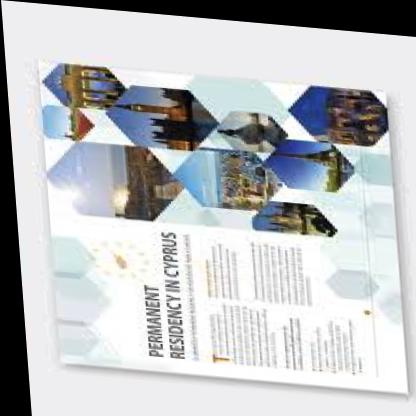Paper: (32, 36, 416, 410)
